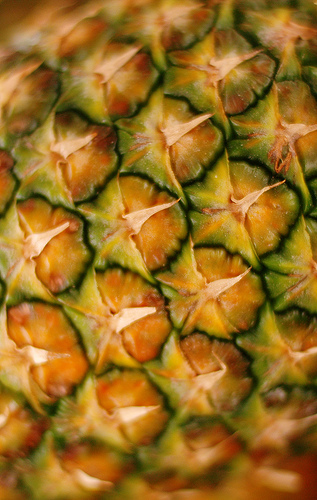pineapple: (0, 0, 315, 498)
